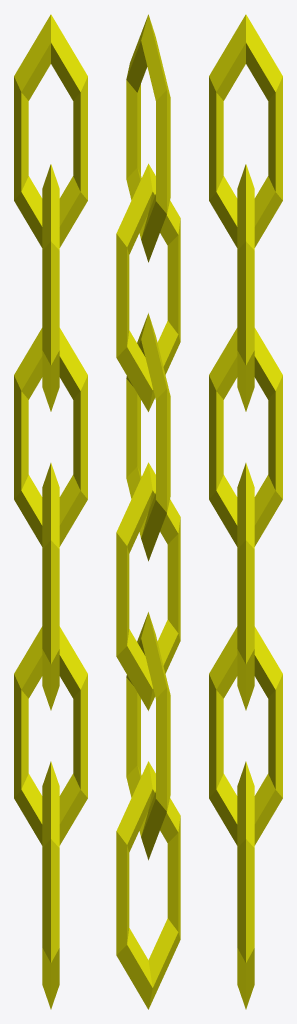
Rendered from Chain2.glb.
The picture shows the model from 3 angles, left to right: view 1: azimuth 90°, elevation 25°; view 2: azimuth 210°, elevation 25°; view 3: azimuth 270°, elevation 25°; orthographic projection.
Visible parts, largest first — view 1: Chain 0; view 2: Chain 0; view 3: Chain 0.
Part boxes in pixels (x1=…): Chain 0: x1=14, y1=14, x2=87, y2=1009; Chain 0: x1=116, y1=14, x2=180, y2=1009; Chain 0: x1=209, y1=14, x2=282, y2=1009.
Size of the model in its own units: 0.0645 by 0.9576 by 0.0645.
1 material, 1 textured.
